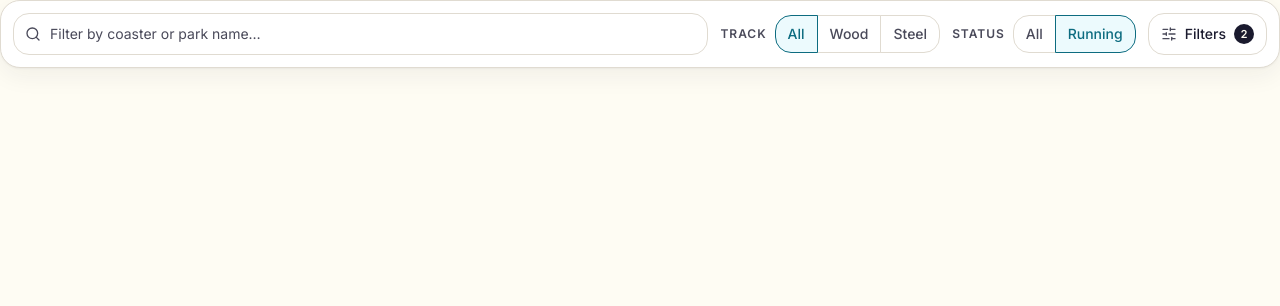
Scenario: FilterBar › reflects the URL-provided filters and badges the active popover count
The width and height of the screenshot is (1280, 306).
Expected: the radio button labelled "Running" is checked, [1055, 15, 1136, 53]
Click the button "Filters 2" at (1207, 34), box [1148, 13, 1267, 55]
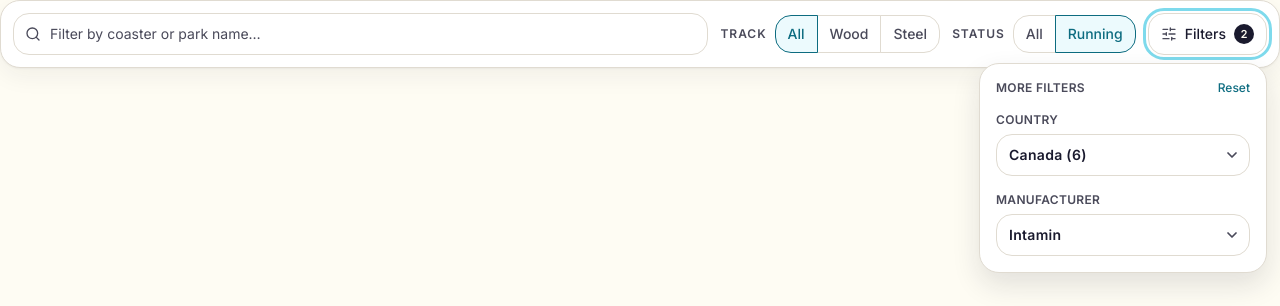
Now the dropdown labelled "Country" shows "Canada (6)", box [996, 134, 1250, 176]
Now the dropdown labelled "Manufacturer" shows "Intamin", box [996, 214, 1250, 256]
